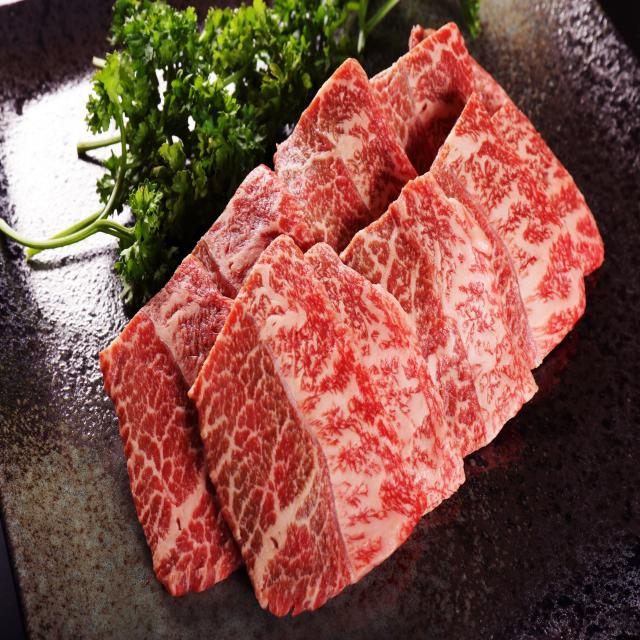beef: (207, 233, 470, 618), (429, 104, 602, 349)
